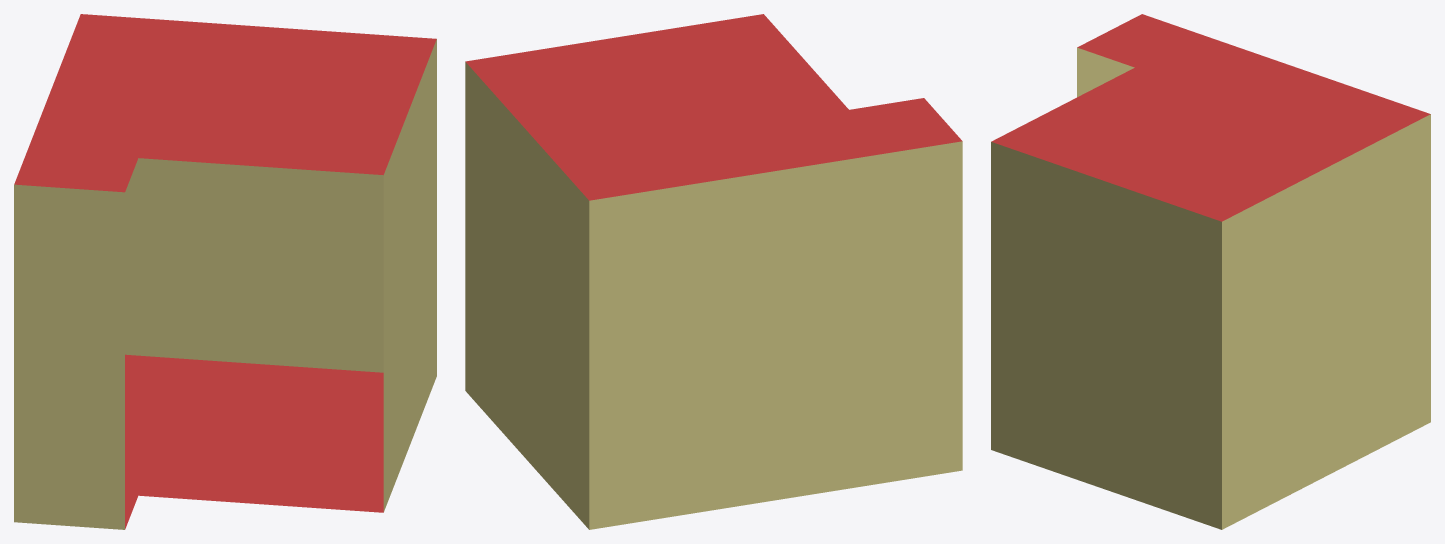
3 renders of one model, left to right at view 1: azimuth 30°, elevation 25°; view 2: azimuth 150°, elevation 25°; view 3: azimuth 270°, elevation 25°, orthographic. The views are drawn at different scales.
Visible parts, largest first — view 1: group_4, group_3, group_5; view 2: group_4, group_3; view 3: group_4, group_3.
Boxes of the visible parts, x1,y1,x2,y2 form: group_4: [14, 39, 436, 529]; group_3: [14, 14, 436, 192]; group_5: [125, 354, 383, 529]; group_4: [465, 62, 962, 529]; group_3: [465, 14, 962, 200]; group_4: [991, 47, 1430, 529]; group_3: [991, 14, 1430, 221].
Bounding box in the file's own units: 9.65 × 8.63 × 6.68.
